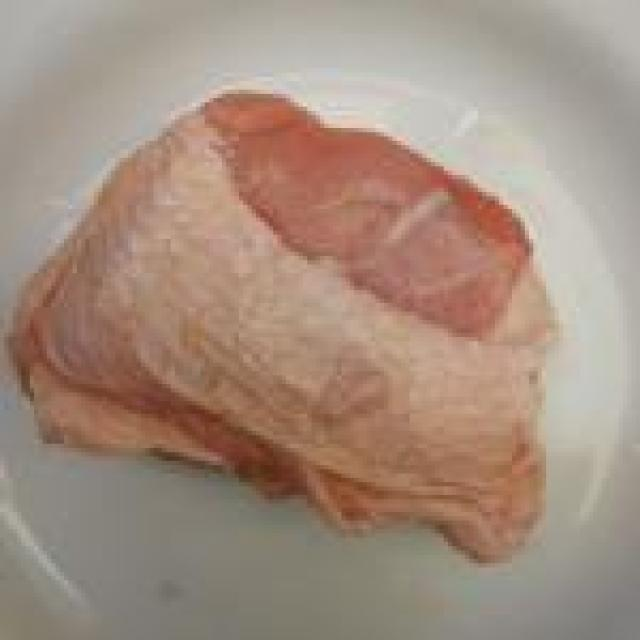breast: (35, 73, 564, 568)
